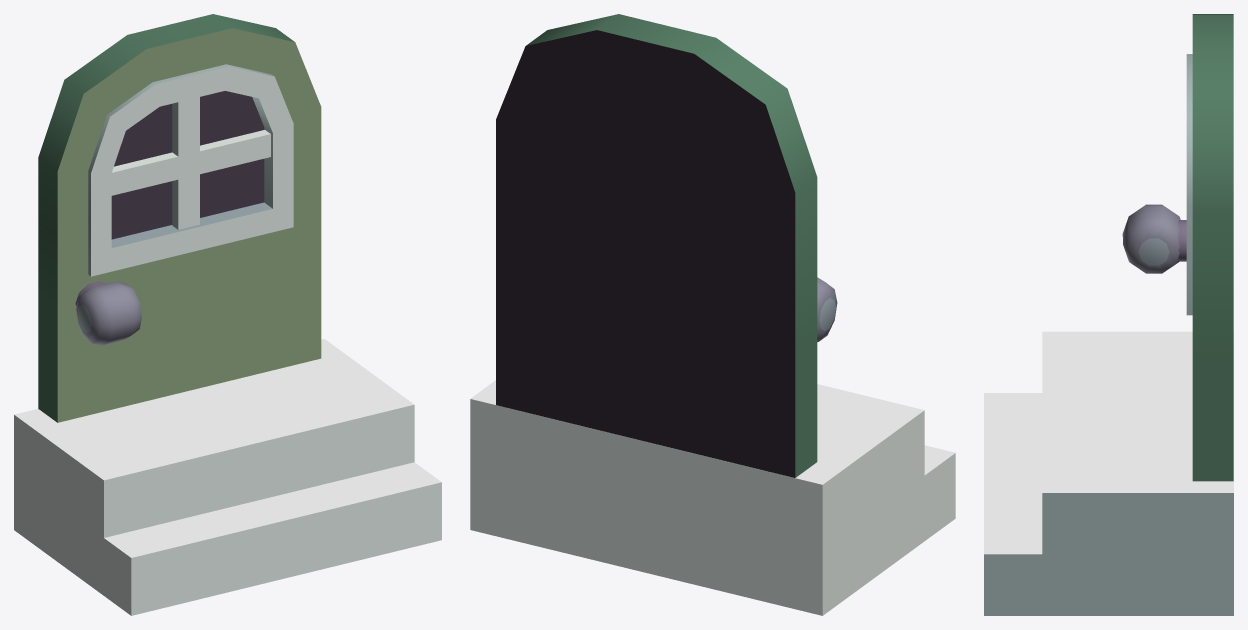
File: Door01_Green_White.glb
3 views of the same model, side by side, from view 1: azimuth 30°, elevation 25°; view 2: azimuth 150°, elevation 25°; view 3: azimuth 270°, elevation 25° (orthographic). The views are drawn at different scales.
Parts seen in each view (by area): view 1: Door01_Green_White; view 2: Door01_Green_White; view 3: Door01_Green_White.
Boxes of the visible parts, x1,y1,x2,y2 form: Door01_Green_White: (14,14,441,615); Door01_Green_White: (470,14,955,615); Door01_Green_White: (984,14,1233,615).
Size of the model in its own units: 0.9795 by 1.41 by 0.6407.
1 material, 1 textured.
